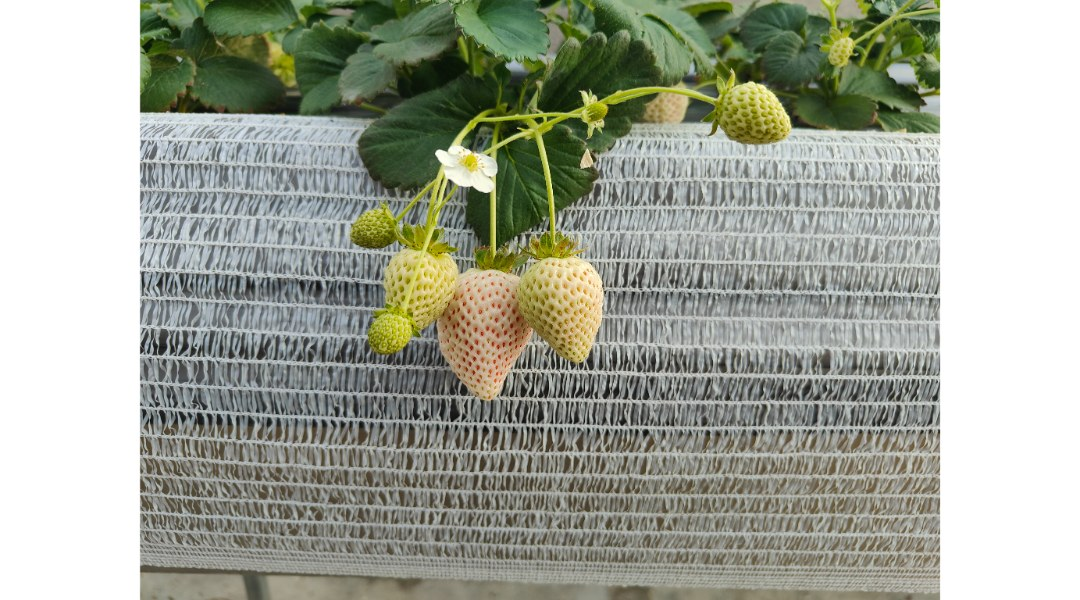berry: (438, 243, 539, 410), (519, 238, 606, 369), (382, 235, 464, 340), (707, 78, 805, 144), (429, 140, 509, 201), (348, 201, 400, 256), (366, 308, 417, 358)
strain: (535, 134, 562, 235), (610, 84, 718, 101), (490, 122, 500, 258), (401, 257, 428, 306), (394, 189, 426, 220), (485, 110, 575, 120)
